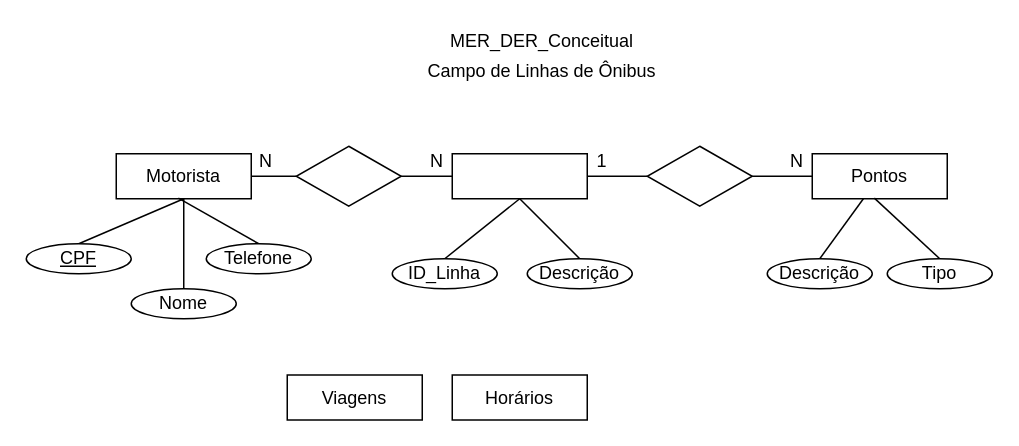
The diagram is 1019 pixels wide and 446 high, and some of its shapes have lost their labels. The centre of each missing label's shape, as x and y in pixels:
dirige: pixel 348 175
Linha: pixel 519 175
Possui: pixel 699 175
